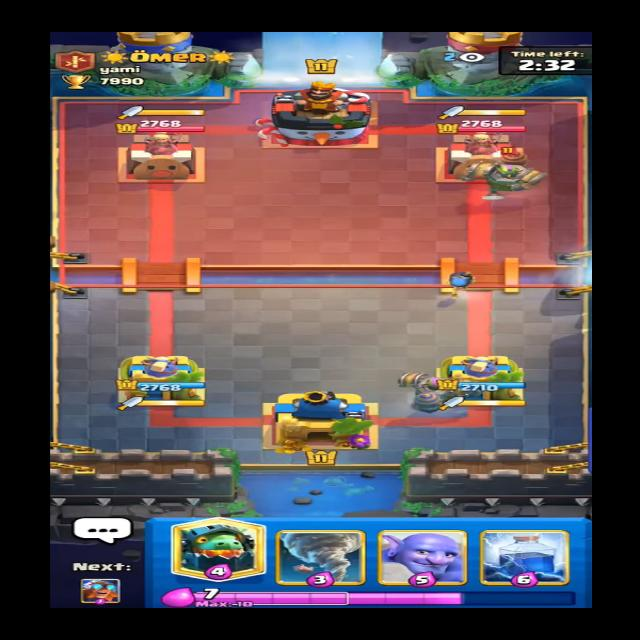goblin-machine: (461, 145, 552, 210)
